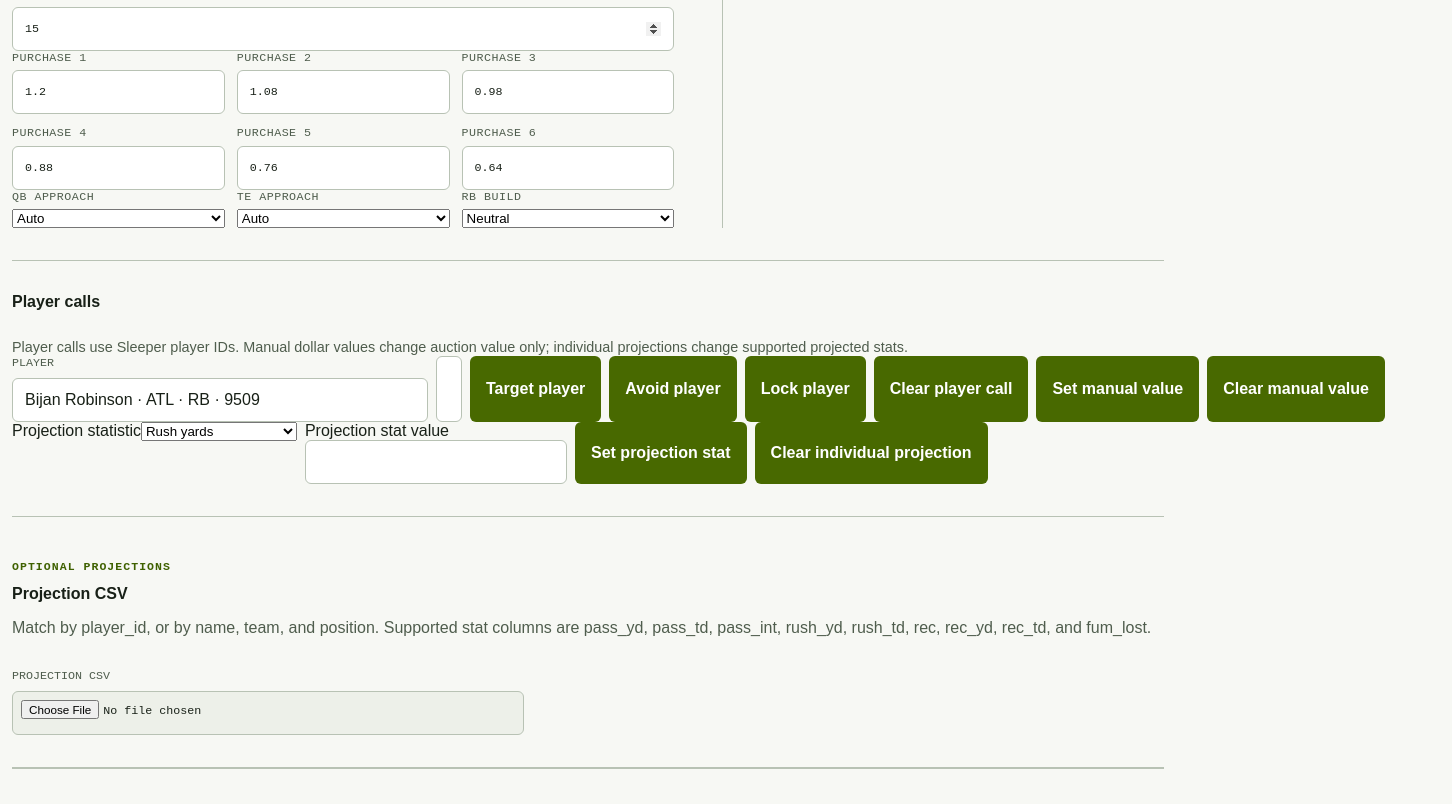
Scenario: StrategyBuilder › stores a manual dollar value by player identity
(page scrolled)
Replace the text in the dropdown labelled "Player" with "Bijan": (220, 400) [12,378,428,422]
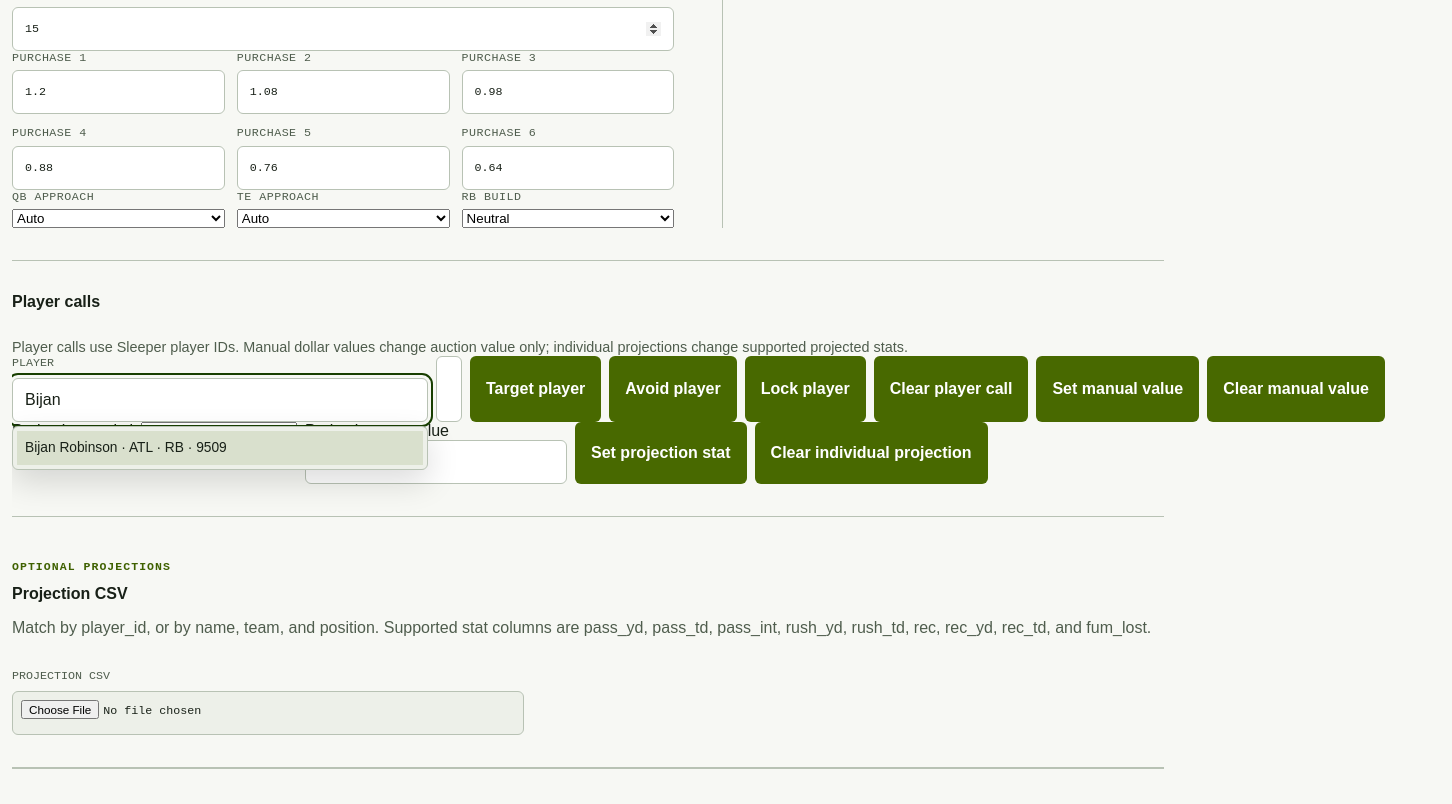
Press Arrowdown Enter
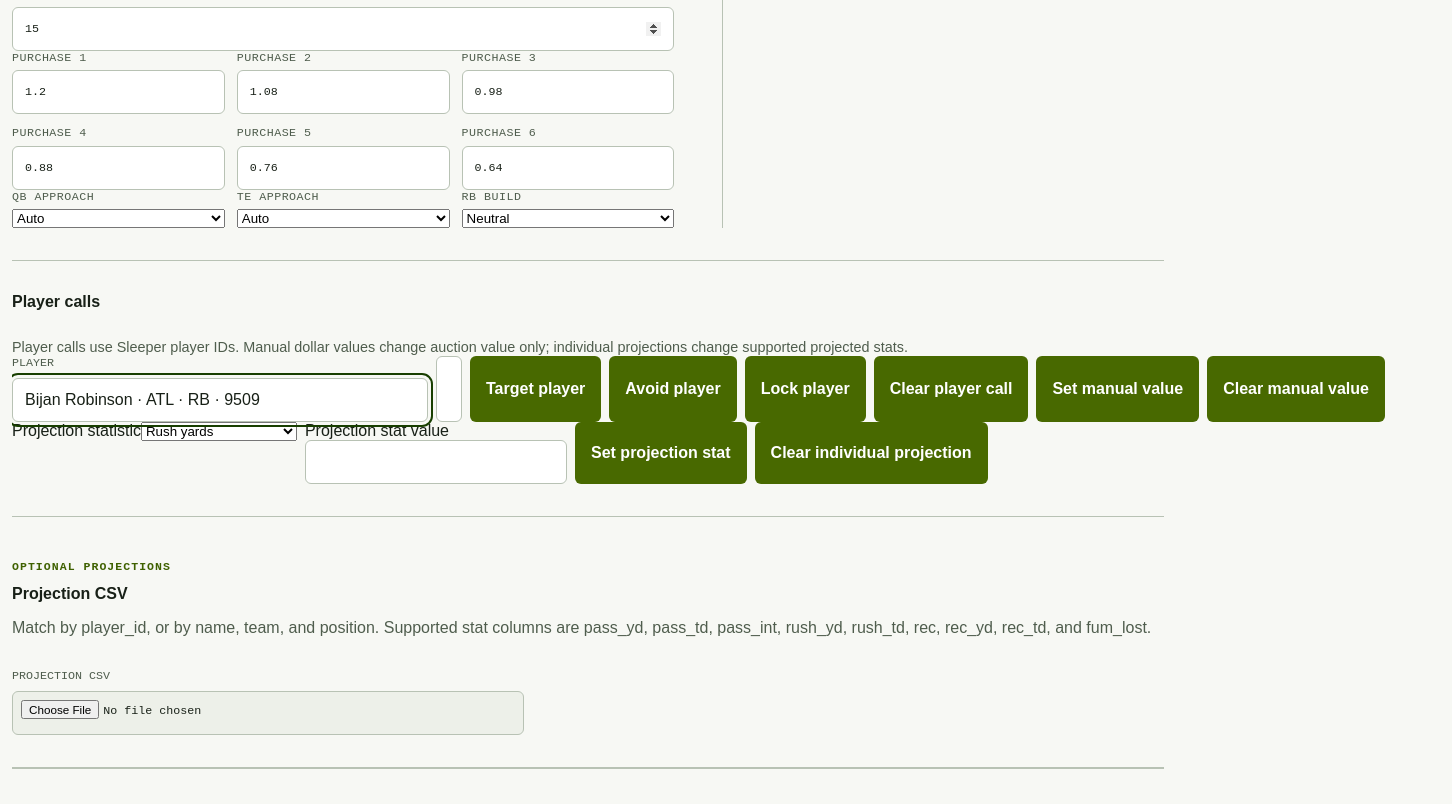
In the number field named "Manual value": (449, 389) [436,356,462,422], type "61"
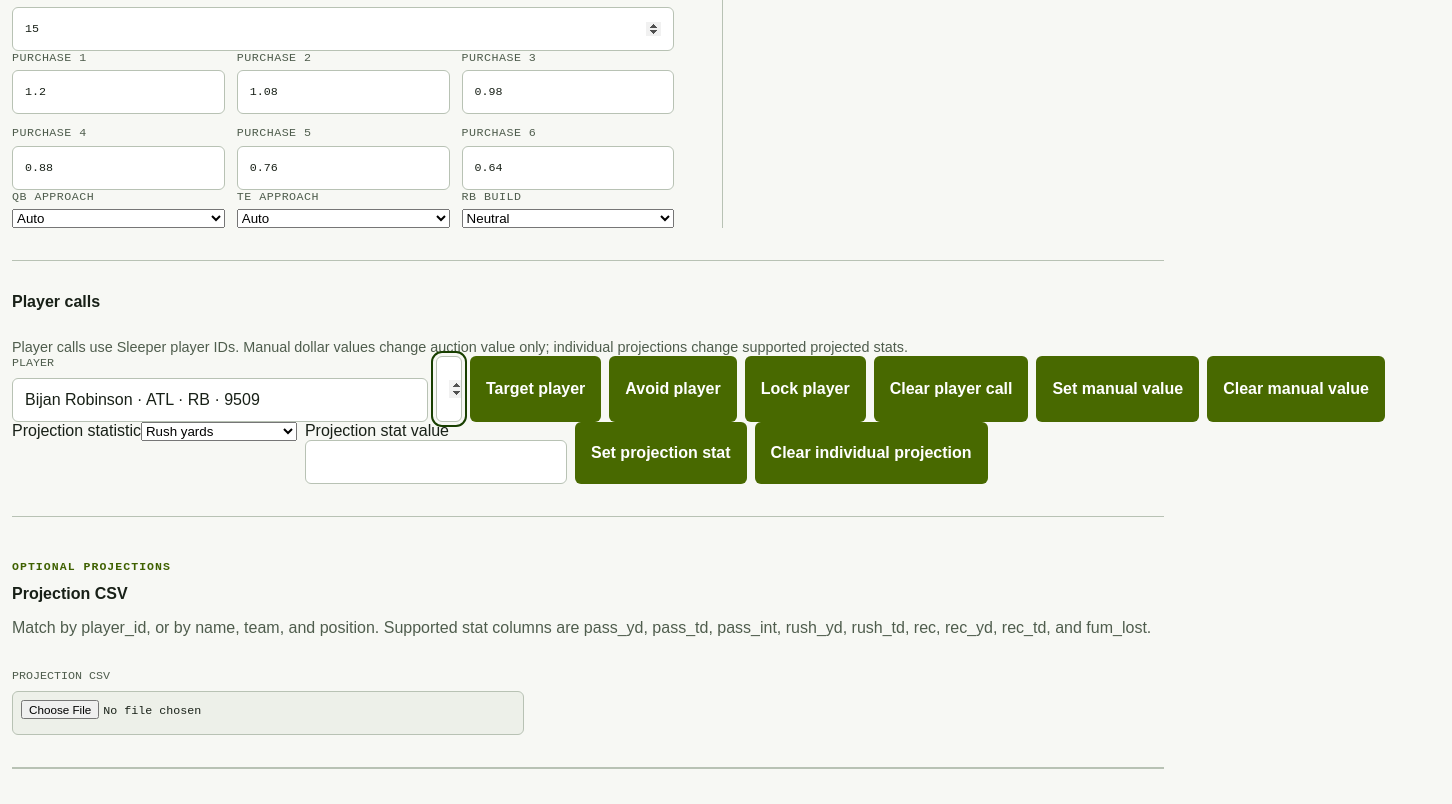
Click the button "Set manual value": (1118, 389) [1036,356,1199,422]
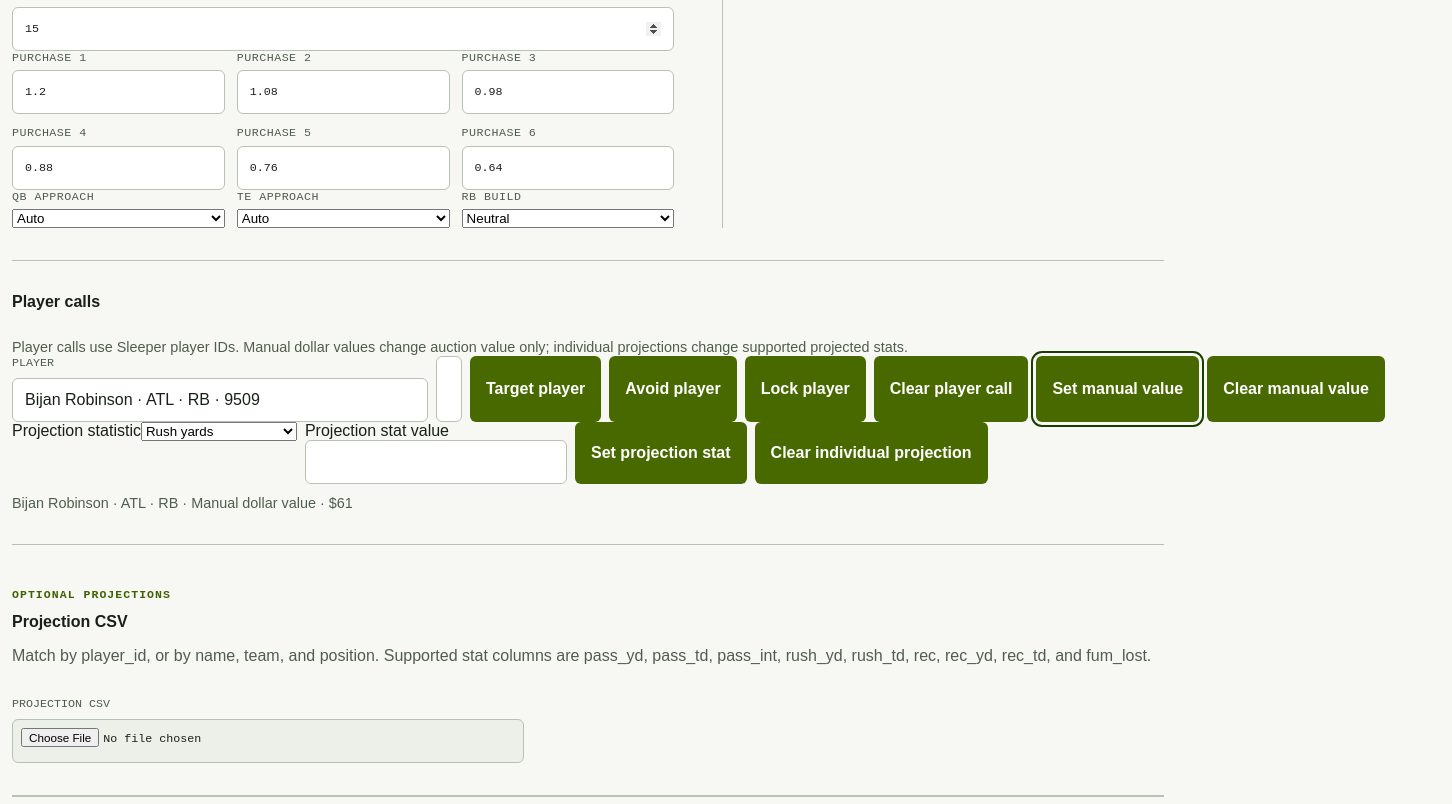
Now the text "Bijan Robinson · ATL · RB · Manual dollar value · $61" is shown, box [12,495,353,511]
Click the button "Clear manual value": (1296, 389) [1207,356,1385,422]
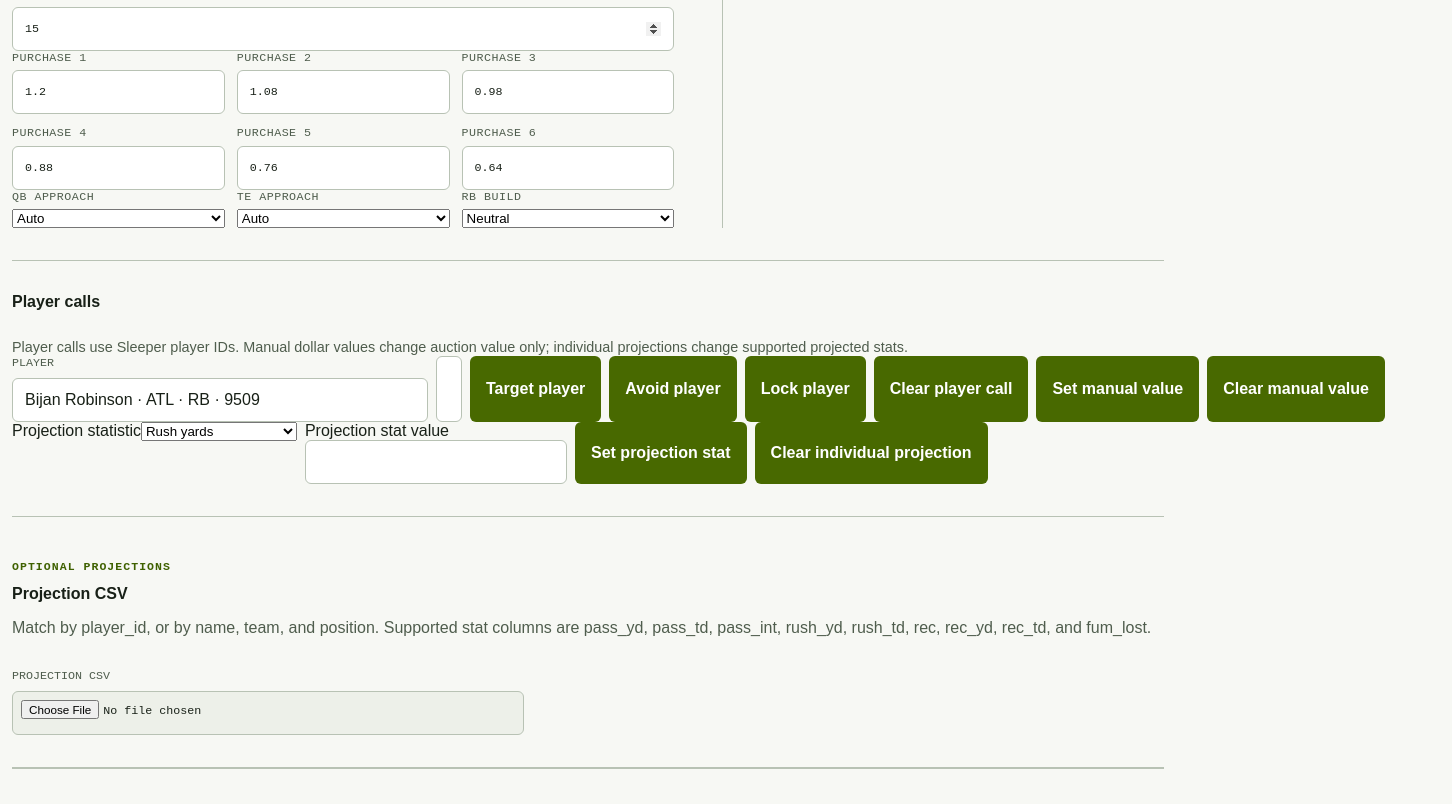
Now the text "Bijan Robinson · ATL · RB · Manual dollar value · $61" is gone
